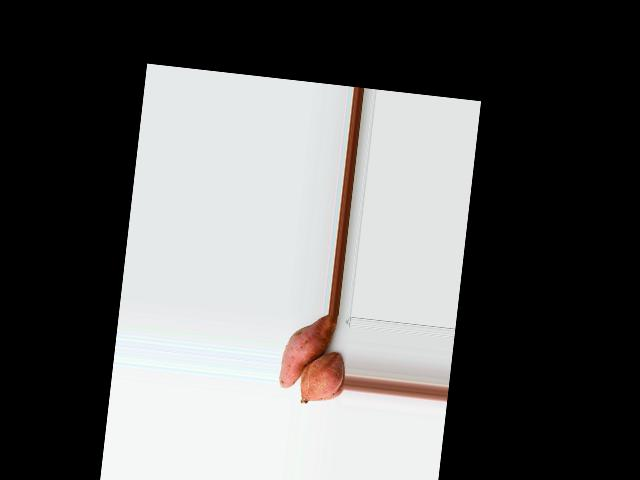sweet_potato: (302, 352, 341, 407)
